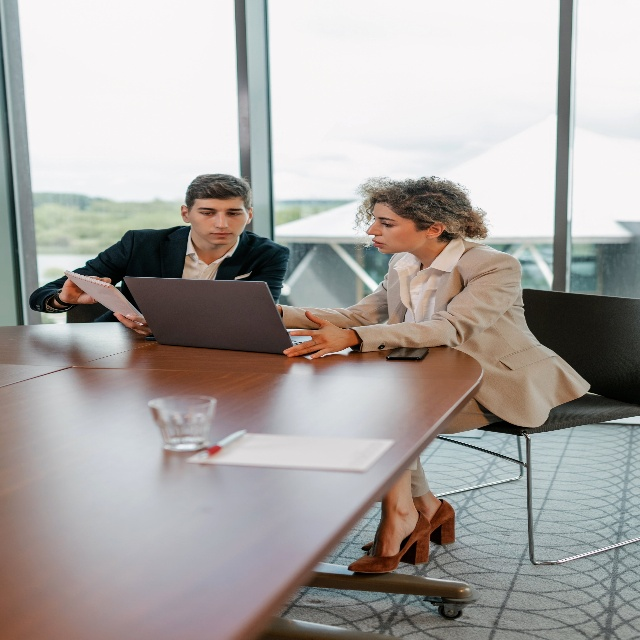Sin_guantes: (281, 309, 352, 364), (58, 267, 109, 308), (113, 306, 151, 336)
